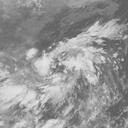cyclone: (29, 21, 106, 114)
